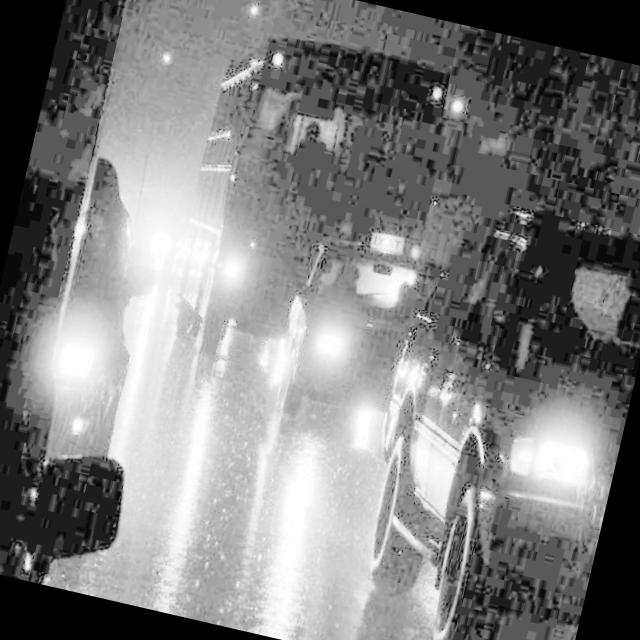Bus: (122, 31, 476, 407)
Car: (326, 151, 640, 640), (0, 151, 171, 491), (250, 208, 448, 478)
